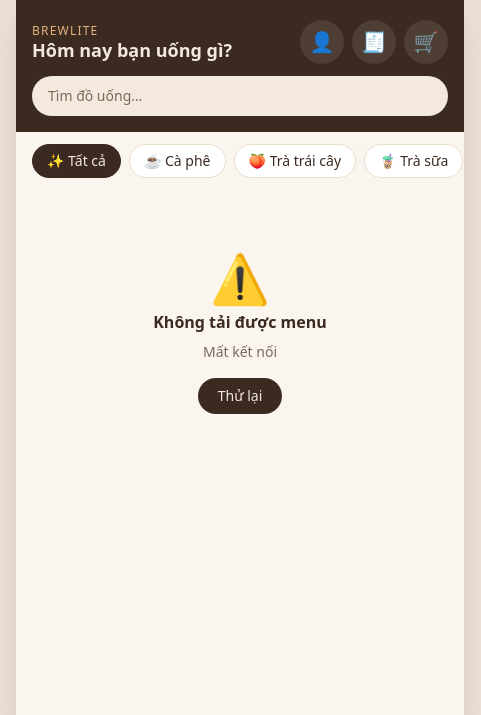
MenuScreen - trạng thái › hiển thị lỗi và cho phép thử lại
Expected: the message shows "Mất kết nối", top-left (203, 342), bottom-right (277, 361)
Click the button "Thử lại" at x=240, y=396, box top-left (198, 378), bottom-right (282, 414)
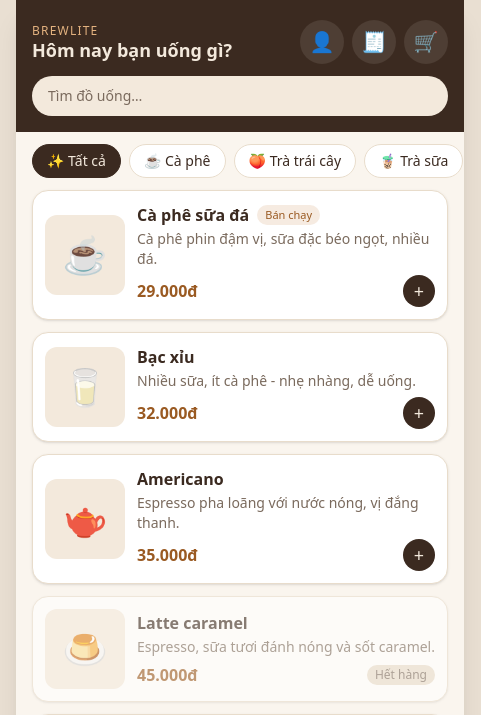
Expected: the text "Cà phê sữa đá" is shown, top-left (137, 203), bottom-right (249, 227)
